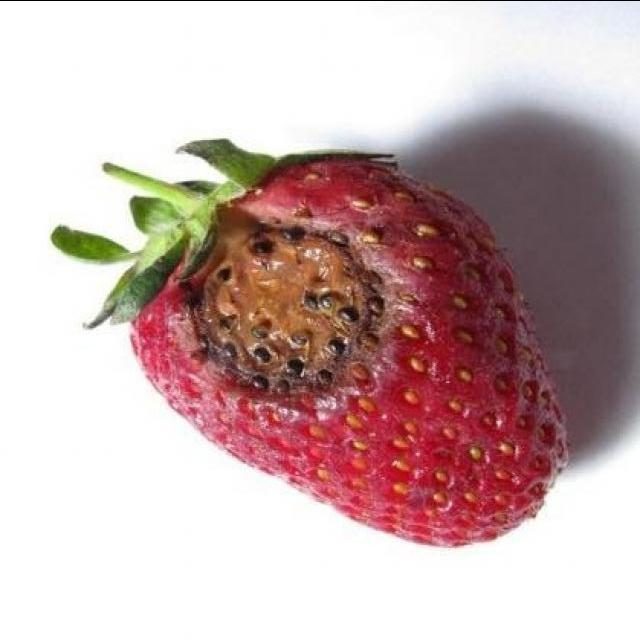Anthracnose Fruit Rot: (53, 137, 572, 548)
